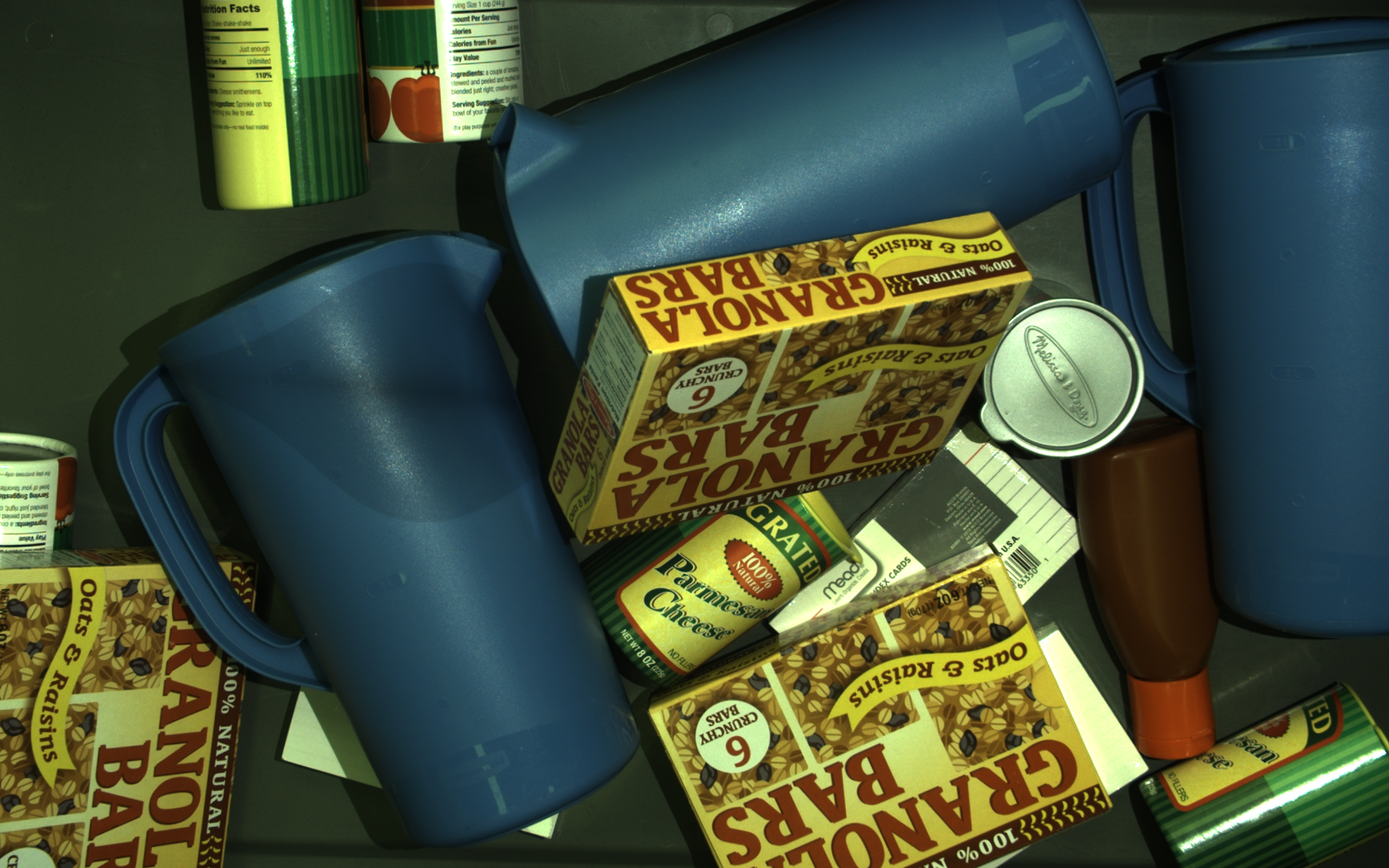defect: (163, 263, 542, 522)
